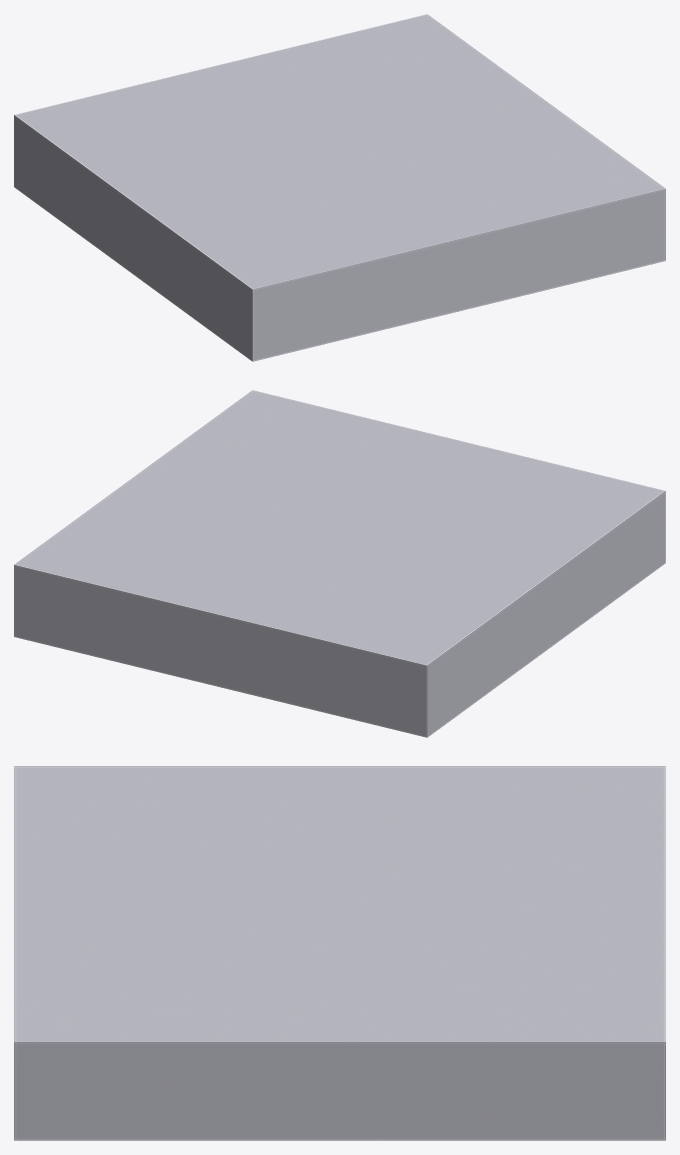
File: Roof_01.FBX
3 renders of one model, top to bottom at view 1: azimuth 30°, elevation 25°; view 2: azimuth 150°, elevation 25°; view 3: azimuth 270°, elevation 25°, orthographic. The views are drawn at different scales.
Visible parts, largest first — view 1: Roof_01; view 2: Roof_01; view 3: Roof_01.
Part boxes in pixels (x1,y1,x2,y2): Roof_01: (14, 14, 665, 361); Roof_01: (14, 390, 665, 737); Roof_01: (14, 766, 665, 1140).
Size of the model in its own units: 6 by 1 by 6.
1 material, 1 textured.
